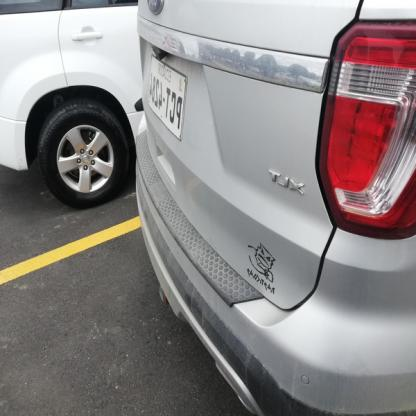Placa: (138, 50, 200, 138)
